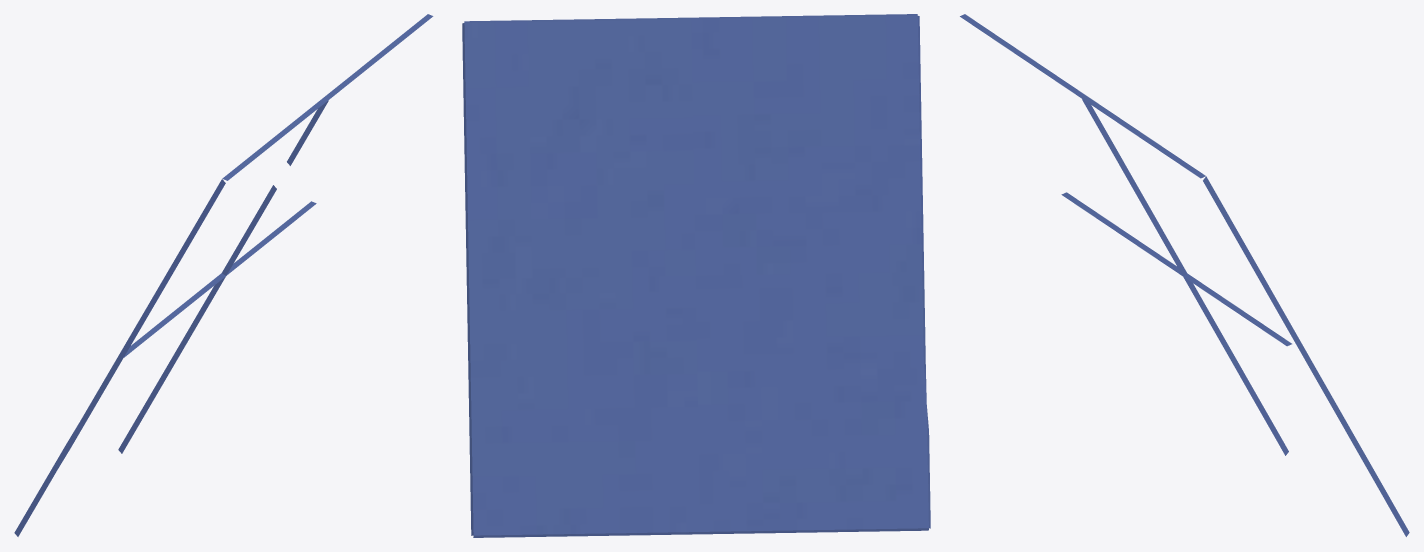
The picture shows the model from 3 angles, left to right: view 1: azimuth 30°, elevation 25°; view 2: azimuth 150°, elevation 25°; view 3: azimuth 270°, elevation 25°; orthographic projection. The views are drawn at different scales.
Size of the model in its own units: 39603 by 34996 by 34439.
1 material, 1 textured.
